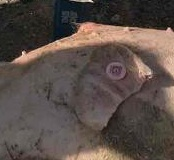text: (96, 53, 134, 88)
